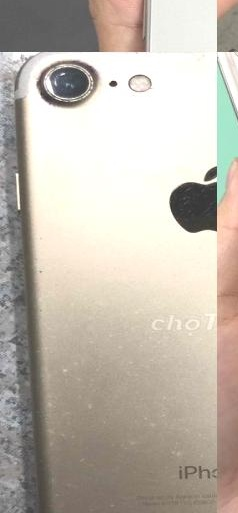scratch: (5, 52, 215, 119), (22, 336, 74, 497), (146, 403, 194, 465)
